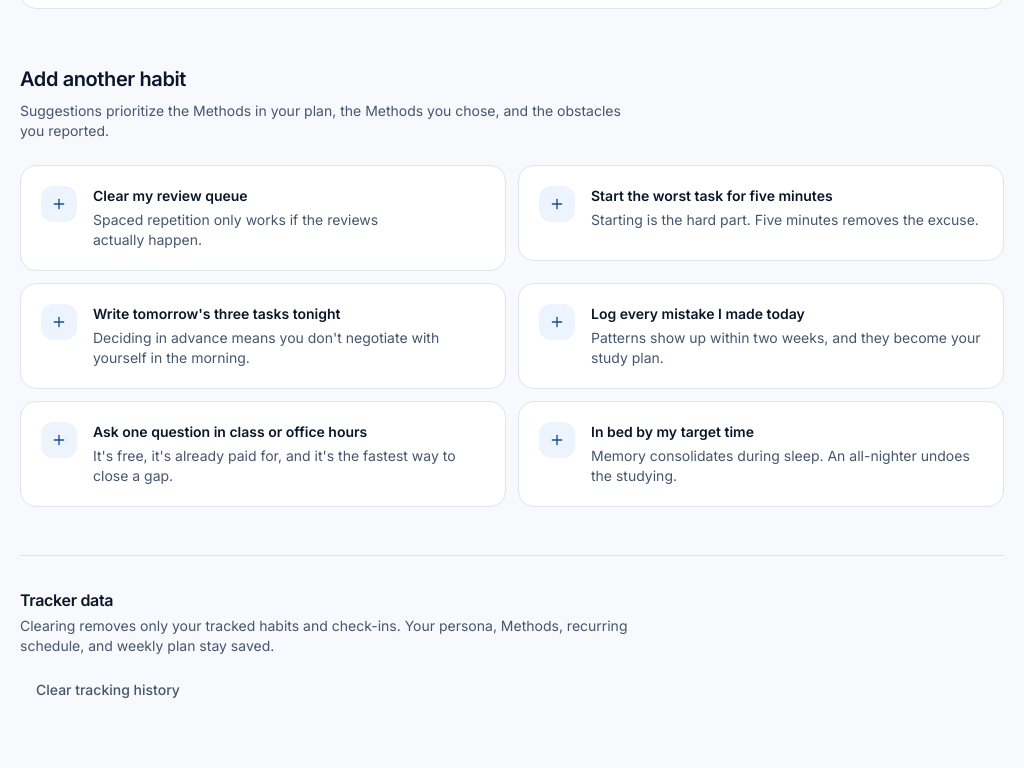
Test: TrackerView › requires confirmation before atomically clearing tracker data
The image size is (1024, 768).
(page scrolled)
Click the button "Clear tracking history": (108, 690) [20,668,196,712]
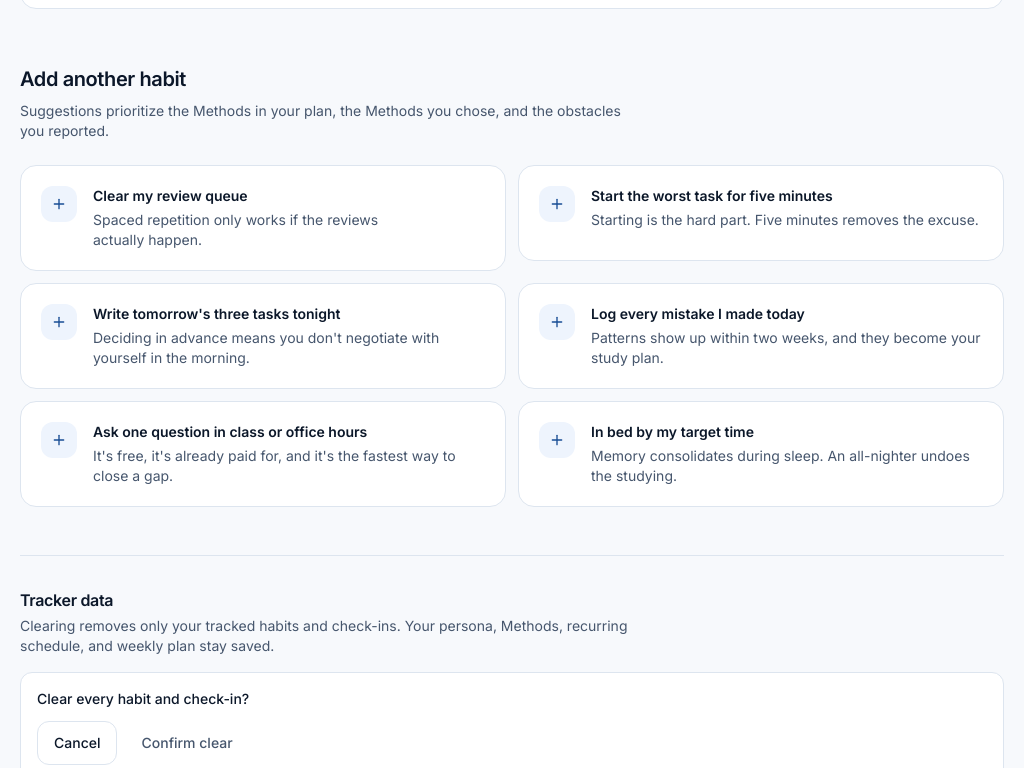
Click the button "Cancel": (77, 743) [37,721,118,765]
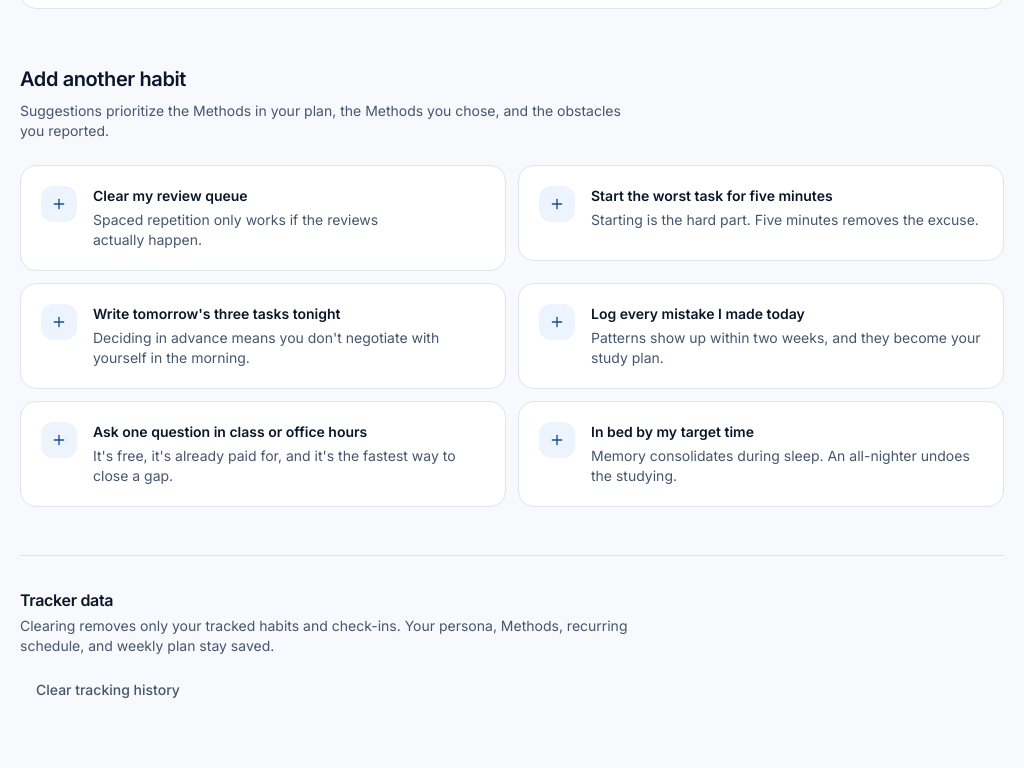
Click the button "Clear tracking history": (108, 690) [20,668,196,712]
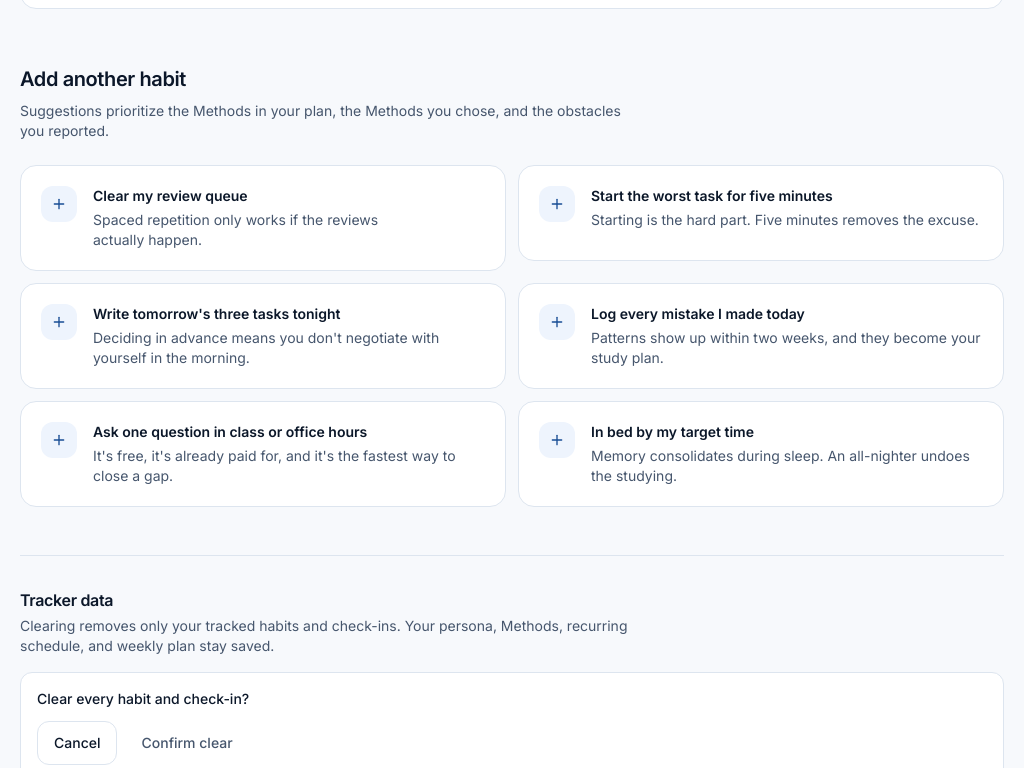
Click the button "Confirm clear": (187, 743) [126,721,249,765]
(page scrolled)
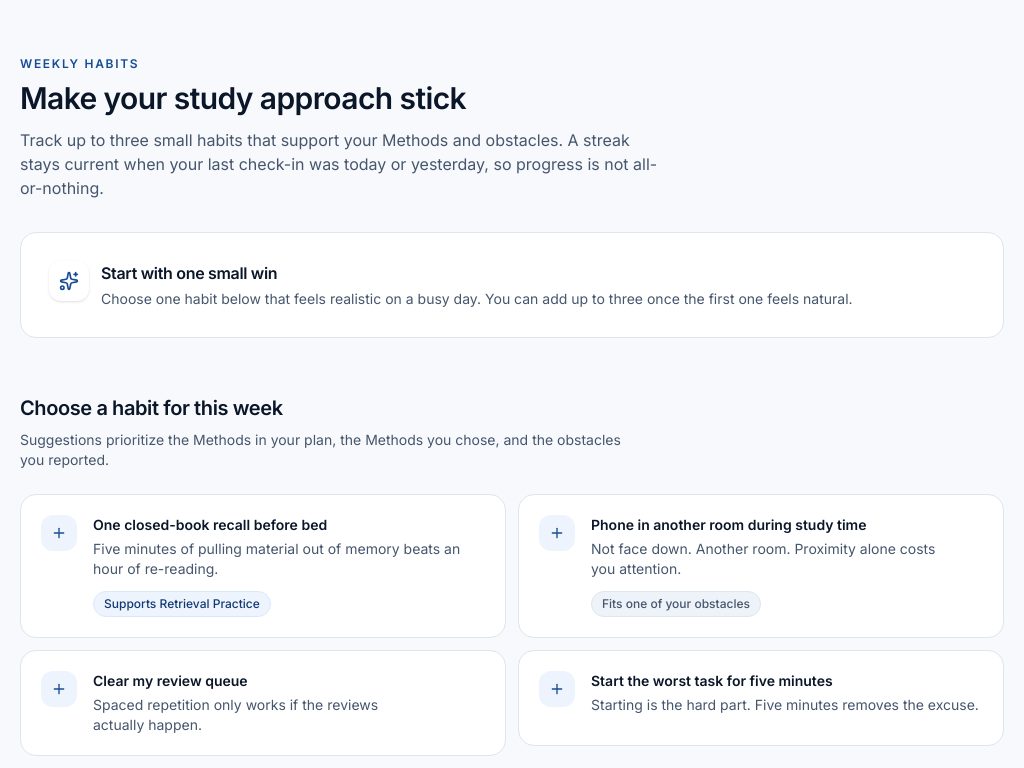
Check: the heading "Start with one small win" is shown, box [101,263,277,283]
